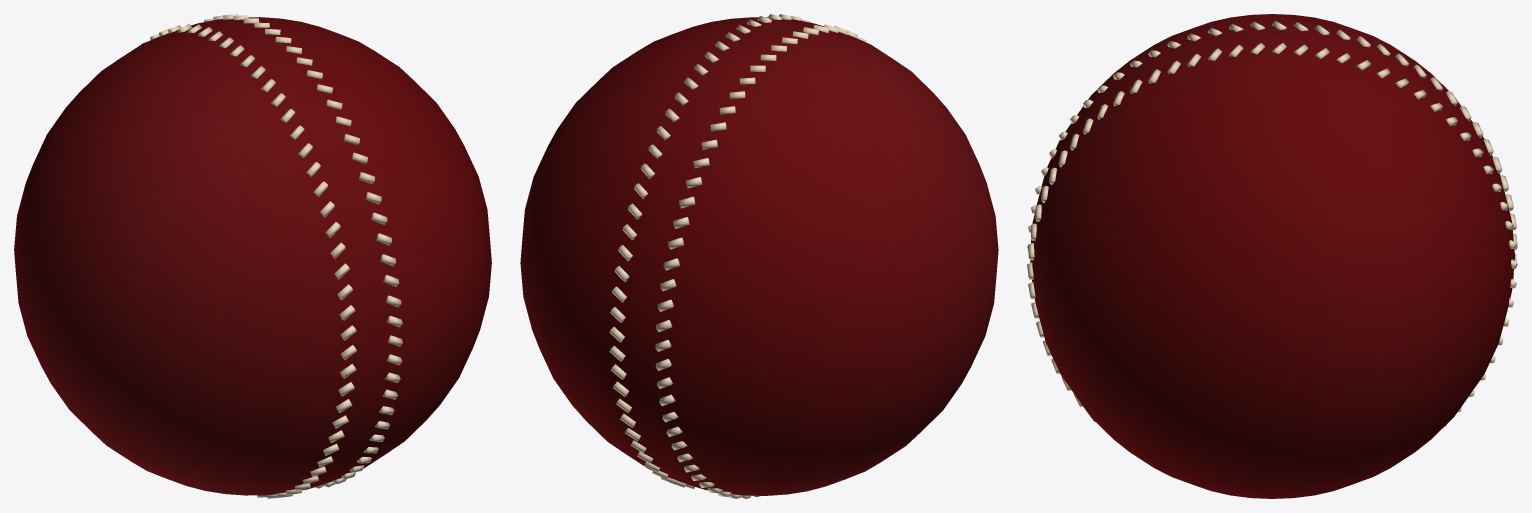
File: ball.glb
3 views of the same model, side by side, from view 1: azimuth 30°, elevation 25°; view 2: azimuth 150°, elevation 25°; view 3: azimuth 270°, elevation 25° (orthographic).
Parts seen in each view (by area): view 1: Oxblood leather_geometry, Waxed seam thread_geometry; view 2: Oxblood leather_geometry, Waxed seam thread_geometry; view 3: Oxblood leather_geometry, Waxed seam thread_geometry.
Boxes of the visible parts, x1=… form: Oxblood leather_geometry: x1=14, y1=17, x2=491, y2=495; Waxed seam thread_geometry: x1=142, y1=14, x2=402, y2=498; Oxblood leather_geometry: x1=520, y1=17, x2=998, y2=495; Waxed seam thread_geometry: x1=609, y1=14, x2=866, y2=498; Oxblood leather_geometry: x1=1030, y1=14, x2=1514, y2=498; Waxed seam thread_geometry: x1=1027, y1=21, x2=1517, y2=435.
Bounding box in the file's own units: 0.072 × 0.0727 × 0.0728.
Materials: 2 (1 with a texture image).
